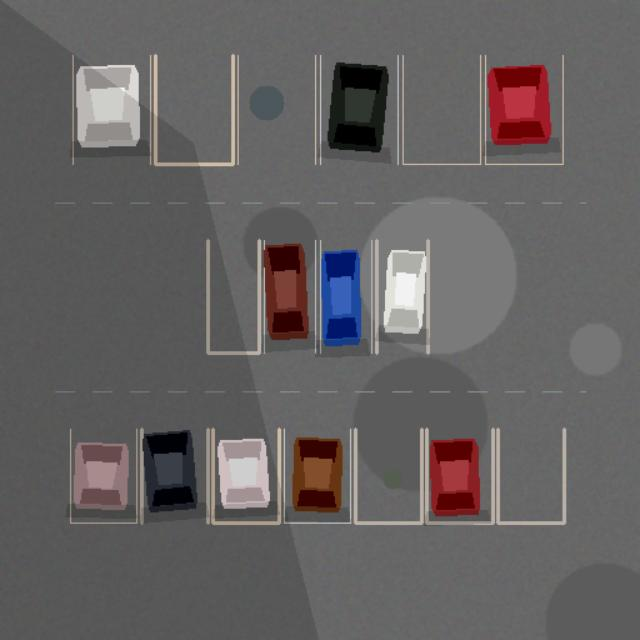space-empty: (402, 55, 480, 164), (155, 55, 232, 164), (238, 55, 315, 164), (355, 429, 421, 522), (498, 429, 564, 522), (208, 240, 259, 353)
space-occupied: (72, 55, 150, 164), (320, 55, 398, 164), (485, 55, 562, 164), (141, 429, 208, 522), (212, 429, 279, 522), (70, 429, 136, 522), (284, 429, 350, 522), (426, 429, 492, 522), (376, 240, 428, 353), (264, 240, 315, 353), (320, 240, 371, 353)
